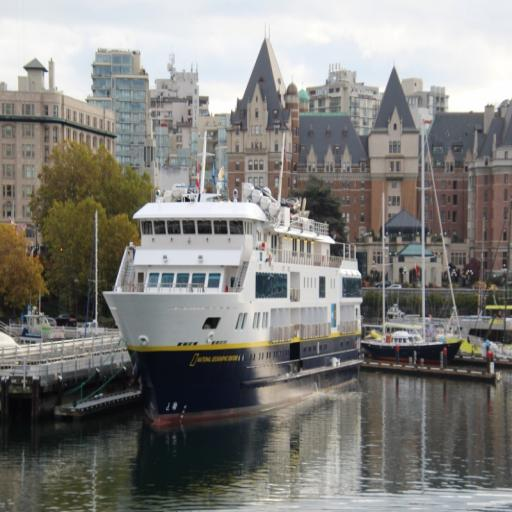cruises: (96, 131, 371, 435)
